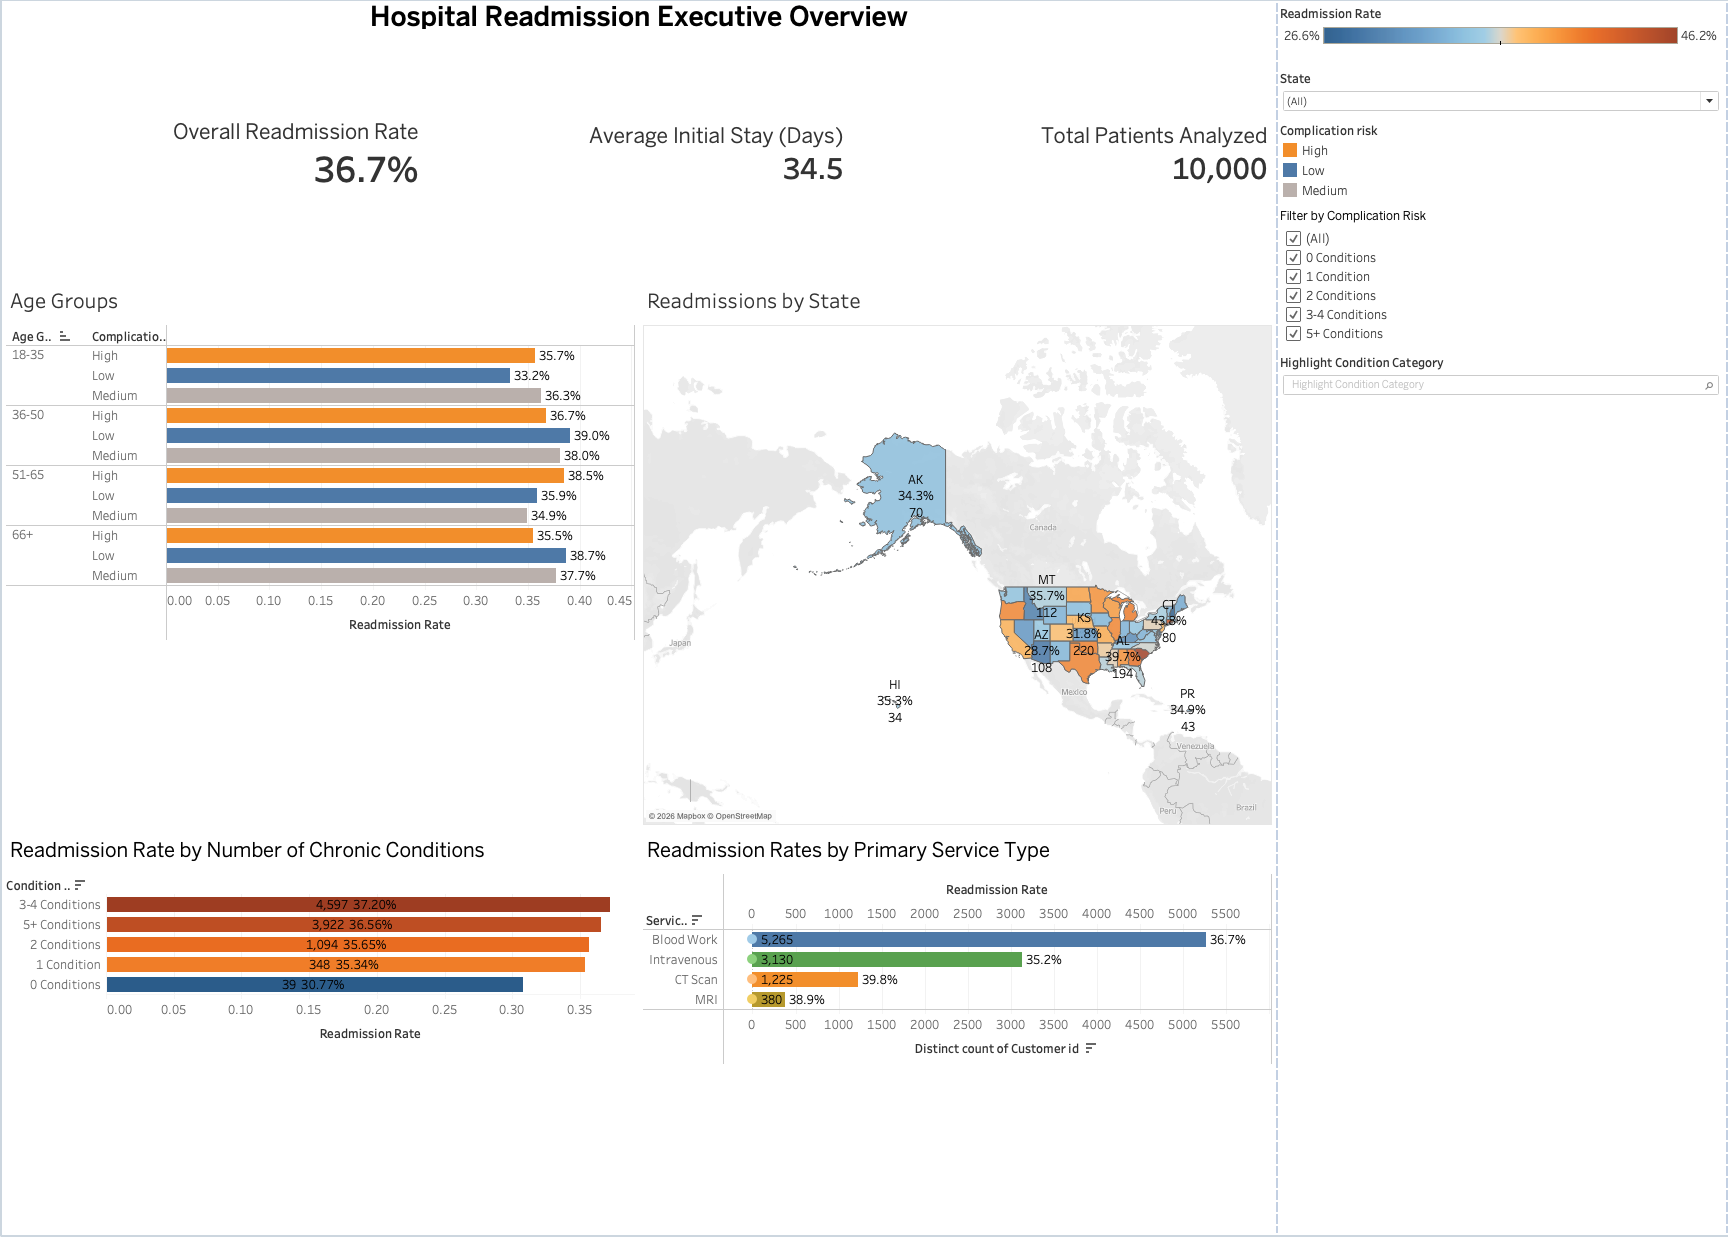

What the dashboard file says about the page in this screenshot:
{"tool":"tableau","page":{"name":"Dashboard 1","canvas":[1000,1000],"units":"permille","ordinal":0},"visuals":[{"type":"title","box":[6.5,12.7,839.7,51]},{"type":"legend","title":"Readmissions by State","param":"[federated.1pkov881folrsd1d8afyi1lmgx8g].[usr:Calculation_2865837476839718914:qk","box":[846.2,12.7,147.3,103.5]},{"type":"worksheet","title":"KPI - Readmission Rate ","mark":"Text","box":[6.5,63.7,279.9,168.1]},{"type":"worksheet","title":"KPI -  AVG Stay","mark":"Automatic","box":[286.4,63.7,279.9,168.1]},{"type":"worksheet","title":"KPI - Total Patients","mark":"Automatic","box":[566.3,63.7,279.9,168.1]},{"type":"filter","title":"Readmissions by State","param":"[federated.1pkov881folrsd1d8afyi1lmgx8g].[none:State:nk]","box":[846.2,116.2,147.3,82.8]},{"type":"dashboard-object","box":[813.7,117.5,19.5,38.6]},{"type":"legend","title":"Age Groups","param":"[federated.1pkov881folrsd1d8afyi1lmgx8g].[none:Complication_risk:nk]","box":[846.2,199,147.3,136.9]},{"type":"worksheet","title":"Age Groups","mark":"Bar","rows":["Calculation_2865837542711431168","Complication_risk"],"cols":["Calculation_2865837476839718914"],"box":[6.5,231.8,419.8,434.9]},{"type":"worksheet","title":"Readmissions by State","mark":"Multipolygon","box":[426.4,231.8,419.9,434.9]},{"type":"filter","title":"Chronic Conditions","param":"[federated.1pkov881folrsd1d8afyi1lmgx8g].[none:Calculation_915989945088450561:nk","box":[846.2,336,147.3,232.5]},{"type":"highlighter","title":"Chronic Conditions","param":"[federated.1pkov881folrsd1d8afyi1lmgx8g].[none:Calculation_915989945088450561:nk","box":[846.2,568.5,147.3,82.8]},{"type":"worksheet","title":"Chronic Conditions","mark":"Bar","rows":["Calculation_915989945088450561"],"cols":["Calculation_2865837476839718914"],"box":[6.5,666.7,419.8,320.6]},{"type":"worksheet","title":"Service Type","mark":"Bar","rows":["Services"],"cols":["Customer_id","Calculation_2865837476839718914"],"box":[426.4,666.7,419.9,320.6]}]}

Visuals, with their boxes on the dashboard's canvas, which has no fixed pixel size, in thousandths of its width and height (x1, y1, x2, y2). These are canvas units, not pixel positions in the 1728x1237 screenshot, which may show the page scaled, cropped or inside an application window:
title: <region>6, 13, 846, 64</region>
"Readmissions by State" legend: <region>846, 13, 994, 116</region>
"KPI - Readmission Rate " worksheet (Text marks): <region>6, 64, 286, 232</region>
"KPI -  AVG Stay" worksheet: <region>286, 64, 566, 232</region>
"KPI - Total Patients" worksheet: <region>566, 64, 846, 232</region>
"Readmissions by State" filter: <region>846, 116, 994, 199</region>
dashboard-object: <region>814, 118, 833, 156</region>
"Age Groups" legend: <region>846, 199, 994, 336</region>
"Age Groups" worksheet (Bar marks): <region>6, 232, 426, 667</region>
"Readmissions by State" worksheet (Multipolygon marks): <region>426, 232, 846, 667</region>
"Chronic Conditions" filter: <region>846, 336, 994, 568</region>
"Chronic Conditions" highlighter: <region>846, 568, 994, 651</region>
"Chronic Conditions" worksheet (Bar marks): <region>6, 667, 426, 987</region>
"Service Type" worksheet (Bar marks): <region>426, 667, 846, 987</region>
